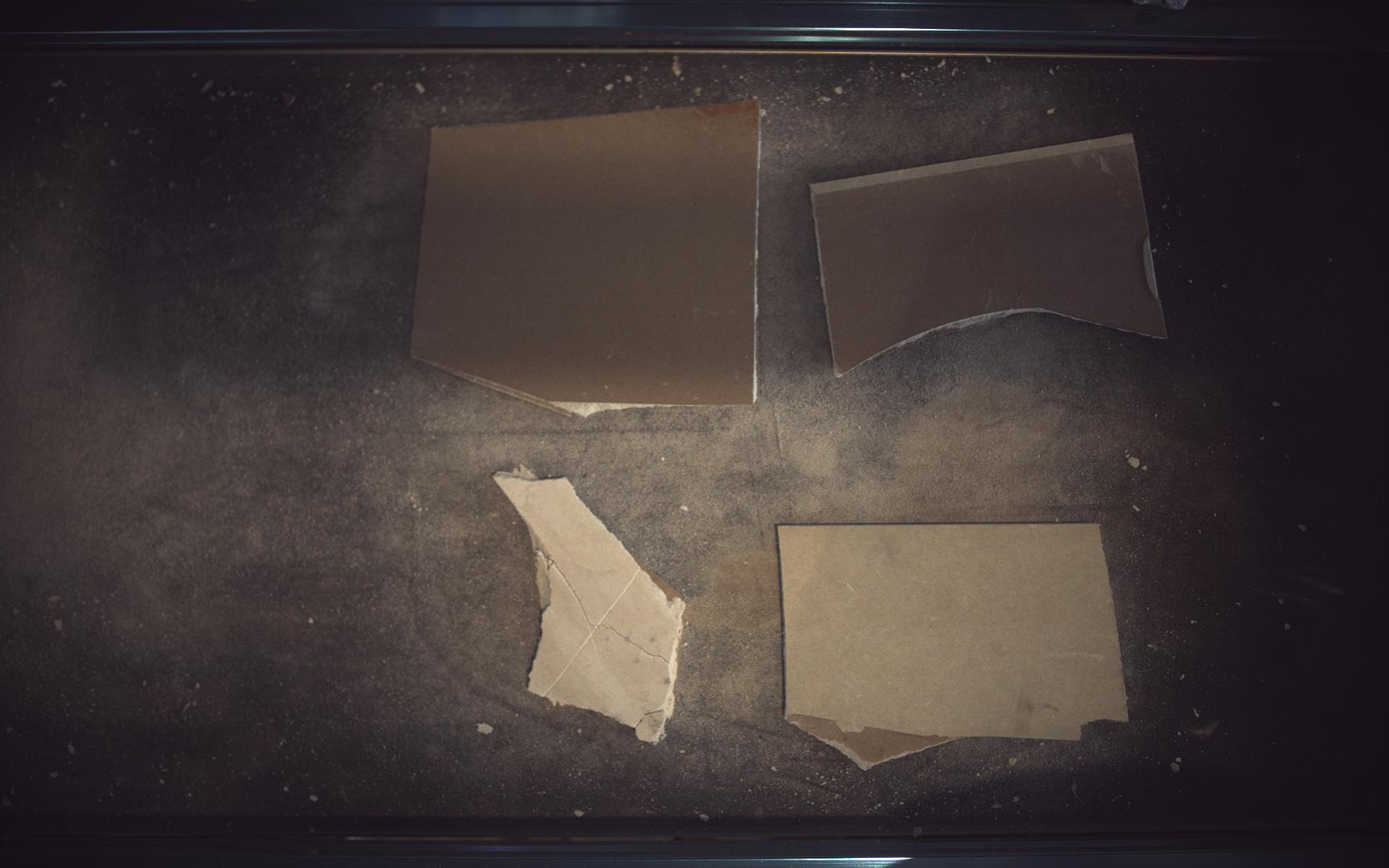gypsum_board: (412, 100, 761, 416), (812, 134, 1169, 375), (780, 525, 1130, 770), (494, 467, 685, 745)
